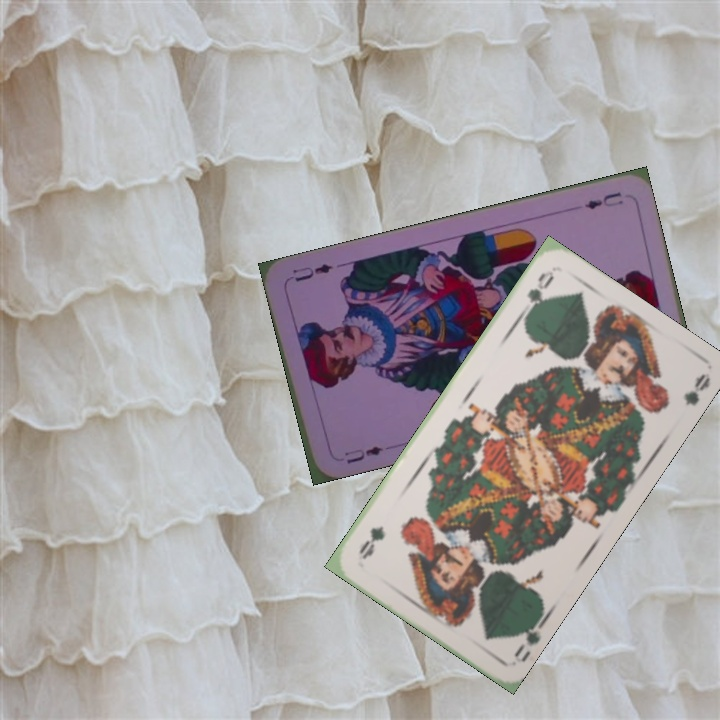EU: (340, 442, 386, 467), (580, 188, 626, 212)
GO: (516, 267, 557, 320), (509, 612, 550, 660)
